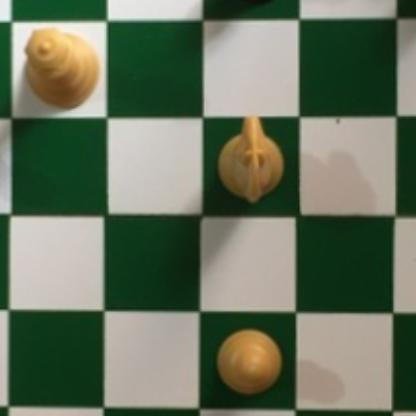black-pawn: (218, 0, 288, 9), (407, 0, 416, 7)
white-knight: (214, 109, 288, 204)
white-pawn: (210, 329, 284, 397)
white-queen: (19, 21, 101, 110)
